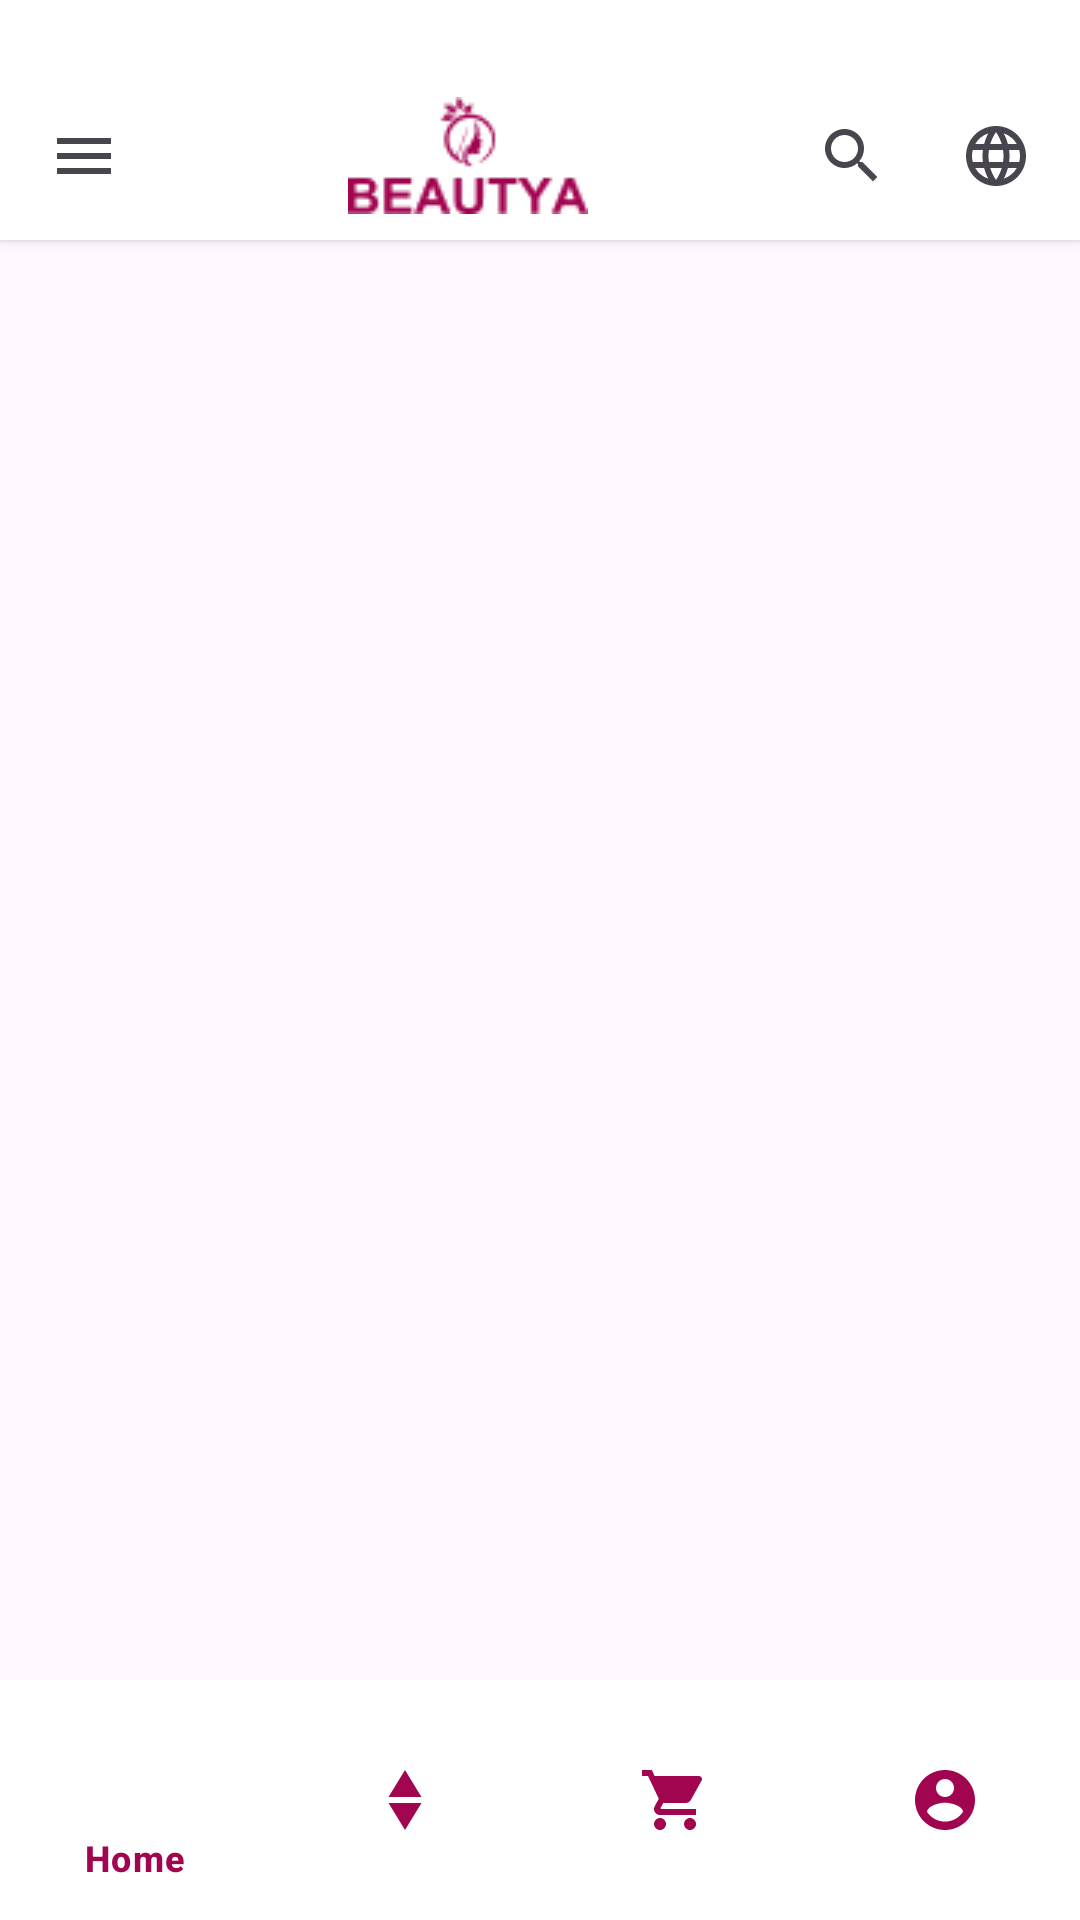

Where icons sit on this 1080w x 1920h app screen, as bbox=[x1, y1, x2, y2]:
Language button: bbox=[966, 126, 1026, 186]
Menu button: bbox=[57, 138, 111, 174]
Search button: bbox=[825, 129, 877, 181]
